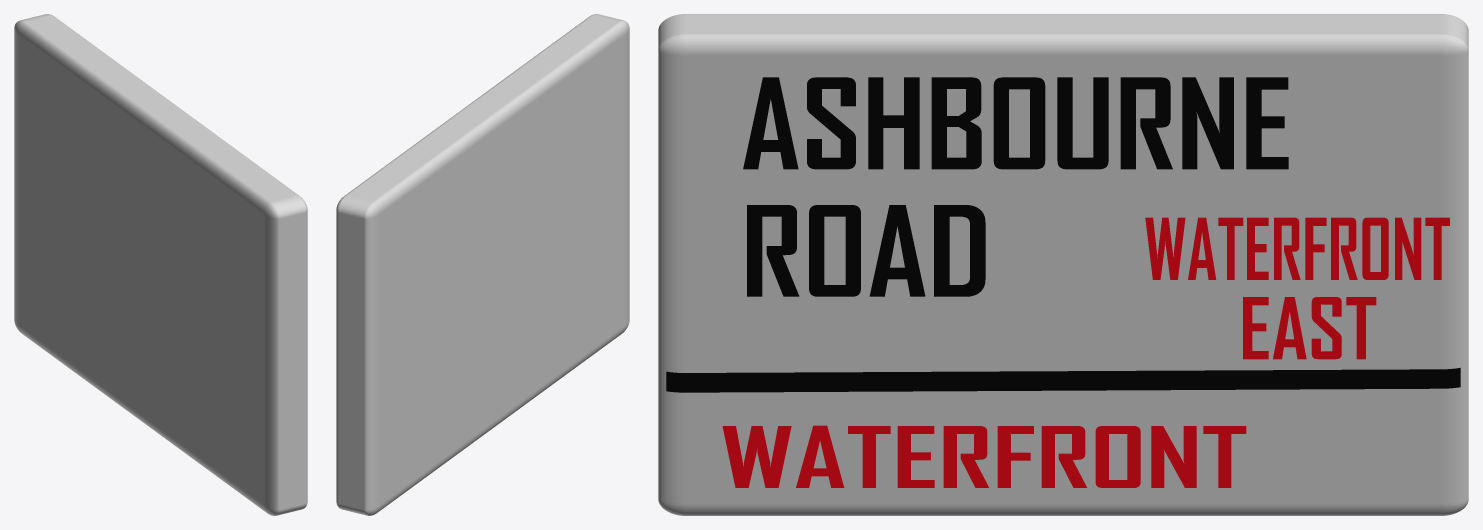
Rendered from uk_styled_street_sign_56.fbx.
The picture shows the model from 3 angles, left to right: view 1: azimuth 30°, elevation 25°; view 2: azimuth 150°, elevation 25°; view 3: azimuth 270°, elevation 25°; orthographic projection. The views are drawn at different scales.
Parts seen in each view (by area): view 1: Cube; view 2: Cube; view 3: Cube, Text, Text.002, Text.001, Text.003, Text.004.
Boxes of the visible parts, x1,y1,x2,y2 form: Cube: (14,14,307,515); Cube: (336,14,629,515); Cube: (658,14,1468,515); Text: (743,77,1288,169); Text.002: (722,425,1246,487); Text.001: (747,205,985,296); Text.003: (1145,217,1449,279); Text.004: (1243,297,1376,359).
Size of the model in its own units: 1.63 by 11.91 by 18.18.
